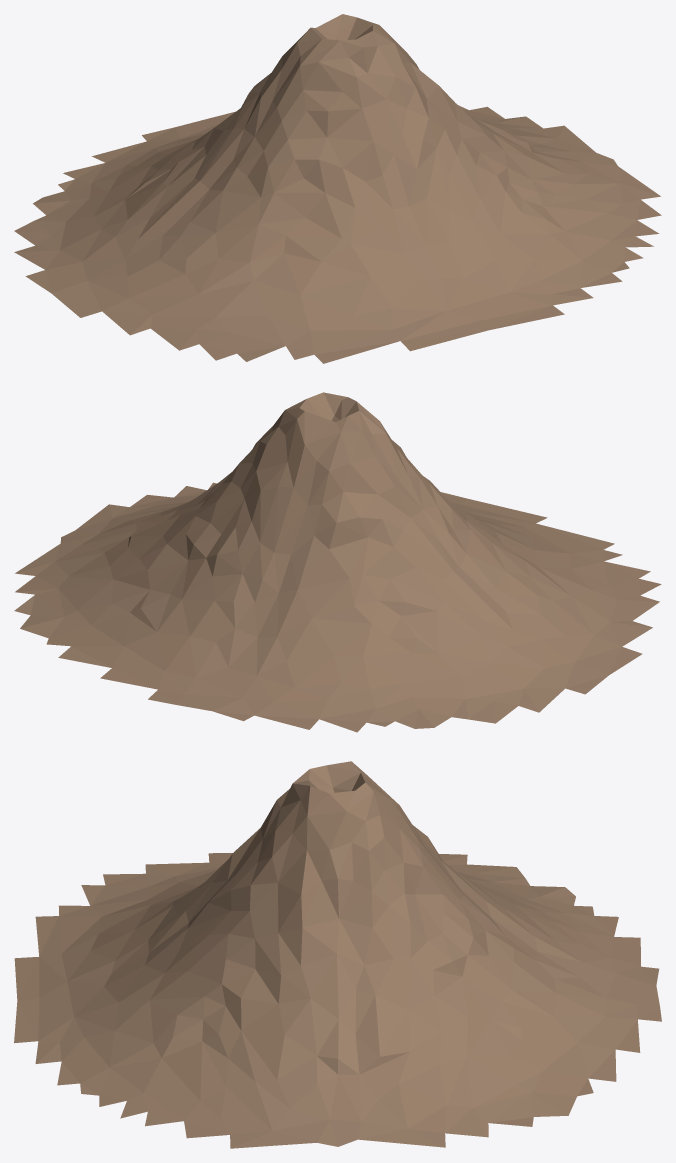
File: Volcano_Mountain_01.fbx
3 renders of one model, top to bottom at view 1: azimuth 30°, elevation 25°; view 2: azimuth 150°, elevation 25°; view 3: azimuth 270°, elevation 25°, orthographic. The views are drawn at different scales.
Parts seen in each view (by area): view 1: Volcano_Mountain_01; view 2: Volcano_Mountain_01; view 3: Volcano_Mountain_01.
Part boxes in pixels (box(x1,y1,x2,y2)): Volcano_Mountain_01: box(14, 14, 661, 363); Volcano_Mountain_01: box(14, 392, 661, 732); Volcano_Mountain_01: box(14, 761, 661, 1148).
Size of the model in its own units: 21503 by 7446 by 19239.
